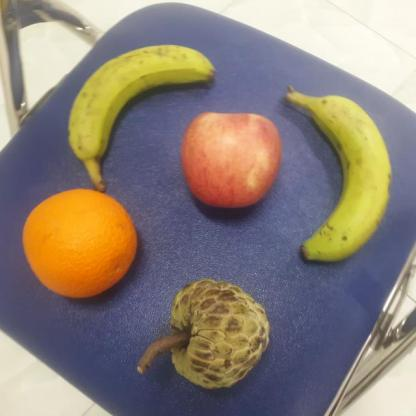annona: (166, 278, 271, 389)
apple: (179, 108, 283, 211)
banana: (64, 39, 219, 172), (283, 86, 398, 260)
orange: (21, 188, 139, 300)
